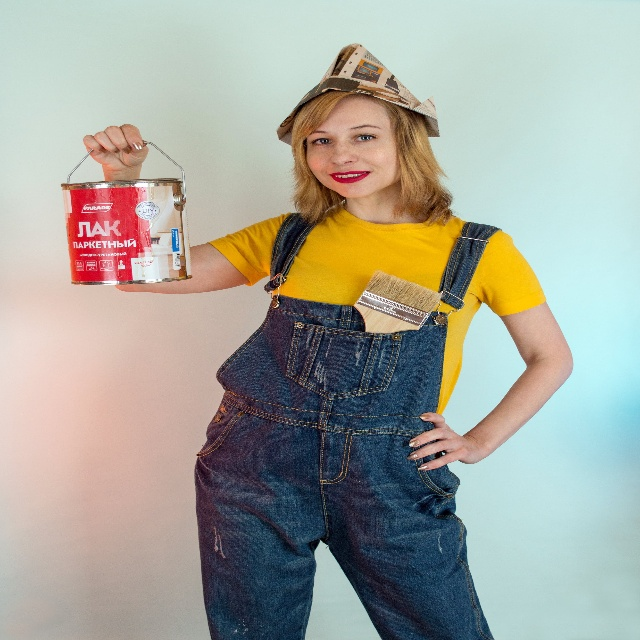Sin_guantes: (408, 411, 477, 470), (82, 124, 149, 170)
